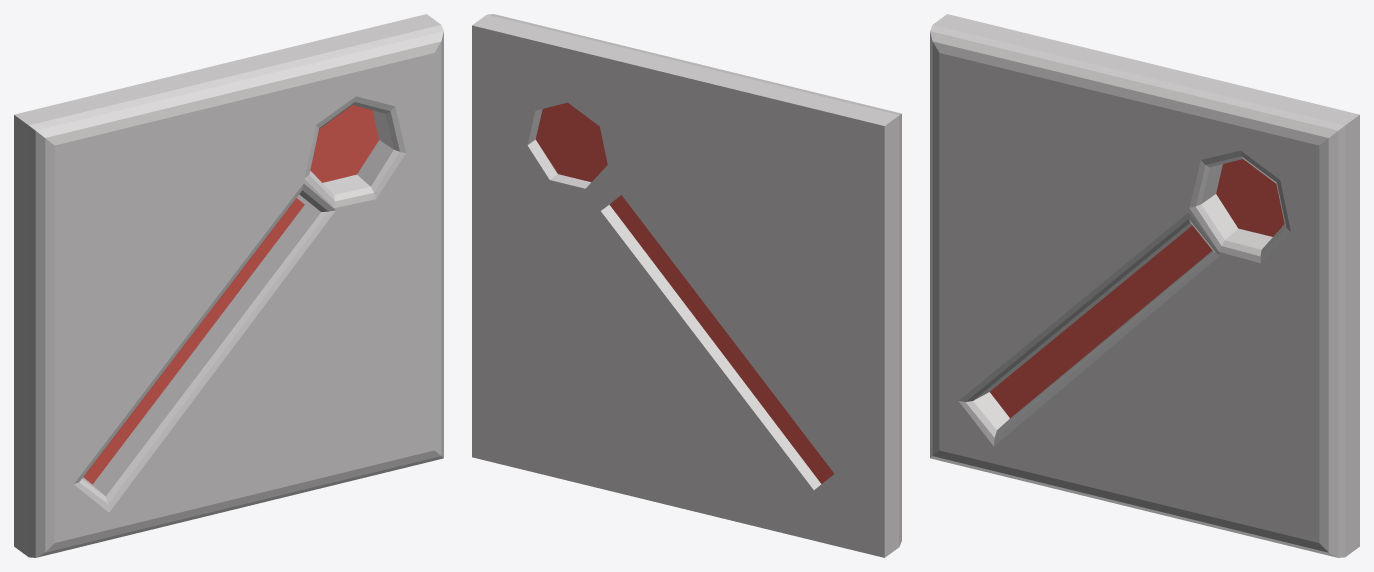
Rendered from Attack01.fbx.
3 views of the same model, side by side, from view 1: azimuth 30°, elevation 25°; view 2: azimuth 150°, elevation 25°; view 3: azimuth 330°, elevation 25° (orthographic).
Parts seen in each view (by area): view 1: Attack01; view 2: Attack01; view 3: Attack01.
Part boxes in pixels (bbox=[...]): Attack01: bbox=[14, 14, 443, 557]; Attack01: bbox=[472, 14, 901, 557]; Attack01: bbox=[930, 14, 1359, 557].
Size of the model in its own units: 200 by 200 by 20.35.
